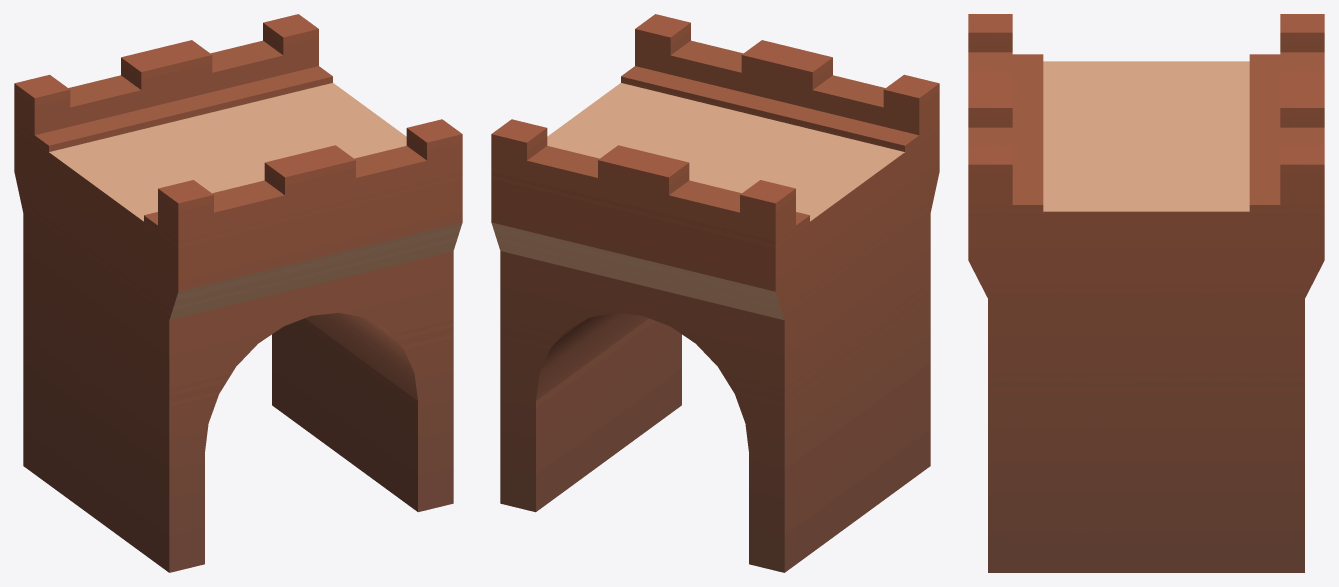
File: bridge-straight.glb
3 renders of one model, left to right at view 1: azimuth 30°, elevation 25°; view 2: azimuth 150°, elevation 25°; view 3: azimuth 270°, elevation 25°, orthographic. The views are drawn at different scales.
Parts seen in each view (by area): view 1: bridge-straight; view 2: bridge-straight; view 3: bridge-straight.
Part boxes in pixels (bbox=[...]): bridge-straight: bbox=[14, 14, 462, 572]; bridge-straight: bbox=[491, 14, 939, 572]; bridge-straight: bbox=[968, 14, 1324, 572].
Size of the model in its own units: 2.79 by 3.53 by 2.79.
1 material, 1 textured.
